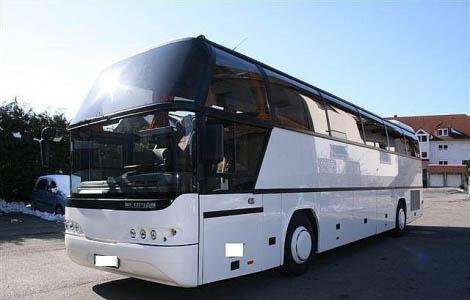bus: (64, 34, 424, 281)
